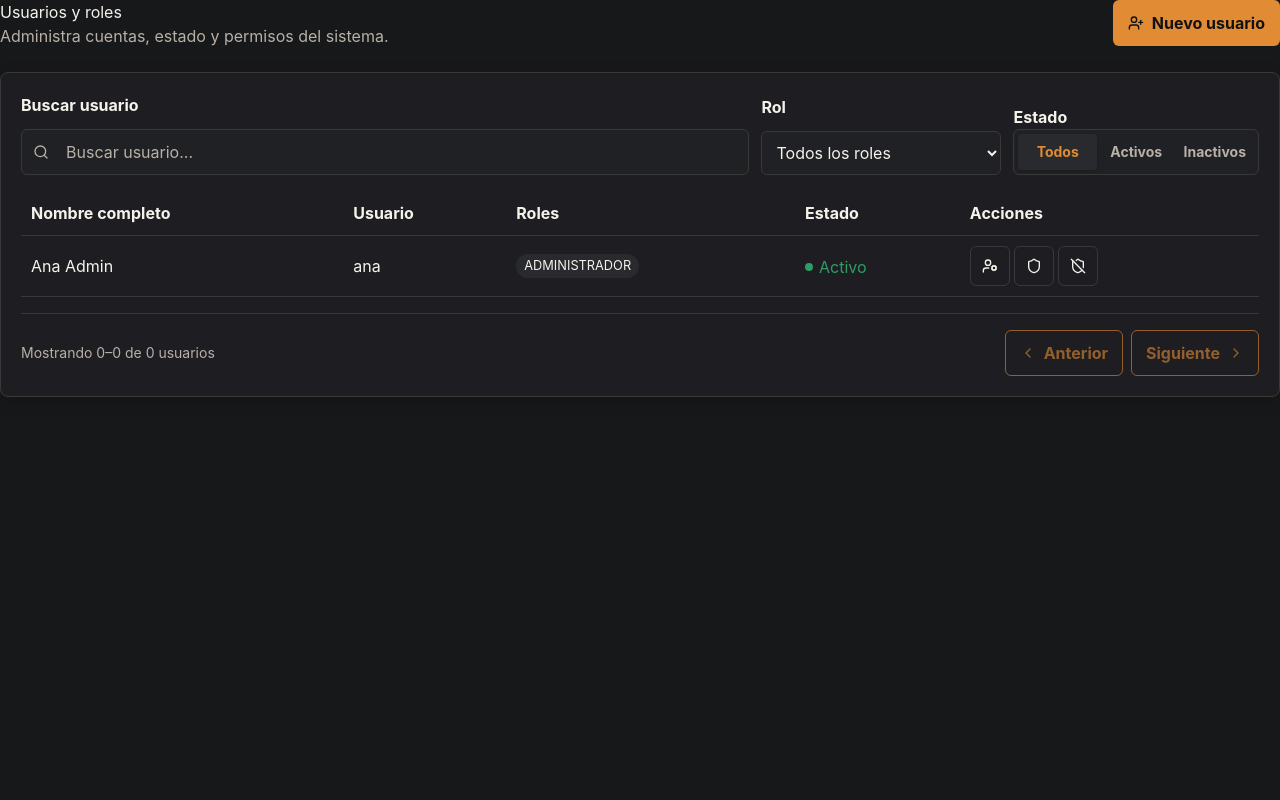
Test: UsersPage › prepopulates edit and confirms lifecycle actions before mutation
Click the button named "Editar usuario" at (990, 266), box [970,246,1010,286]
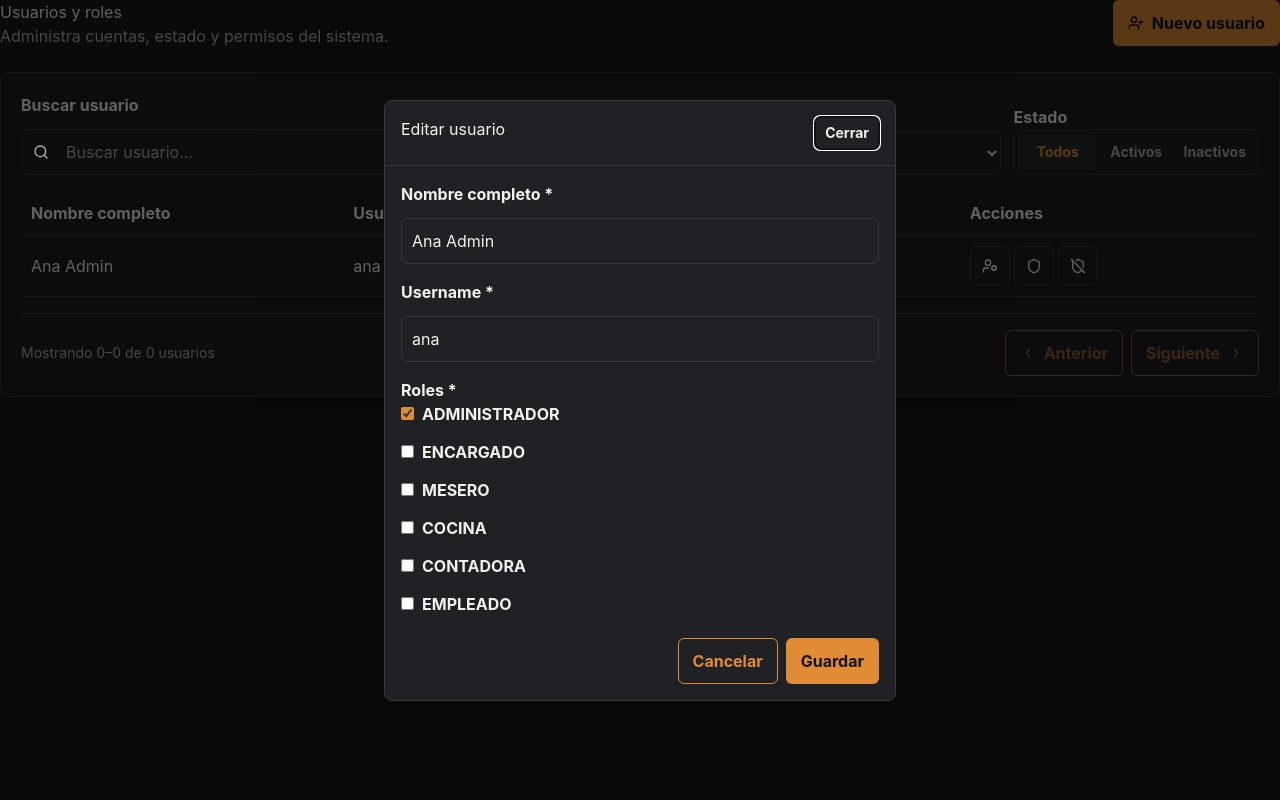
Expected: the field showing "Ana Admin" is shown, [401,218,879,264]
Click the button "Cerrar" at (847, 132), box [815,116,879,148]
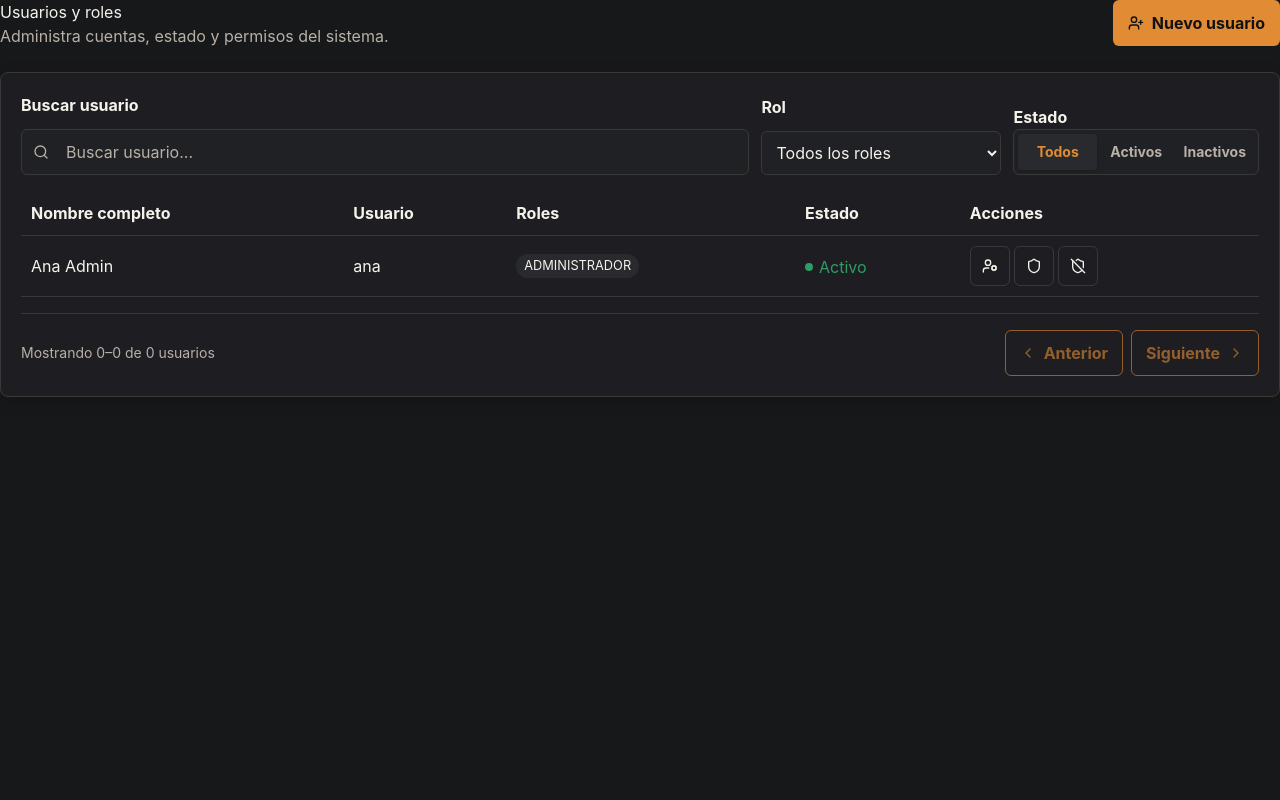
Click the button named "Desactivar usuario" at (1078, 266), box [1058,246,1098,286]
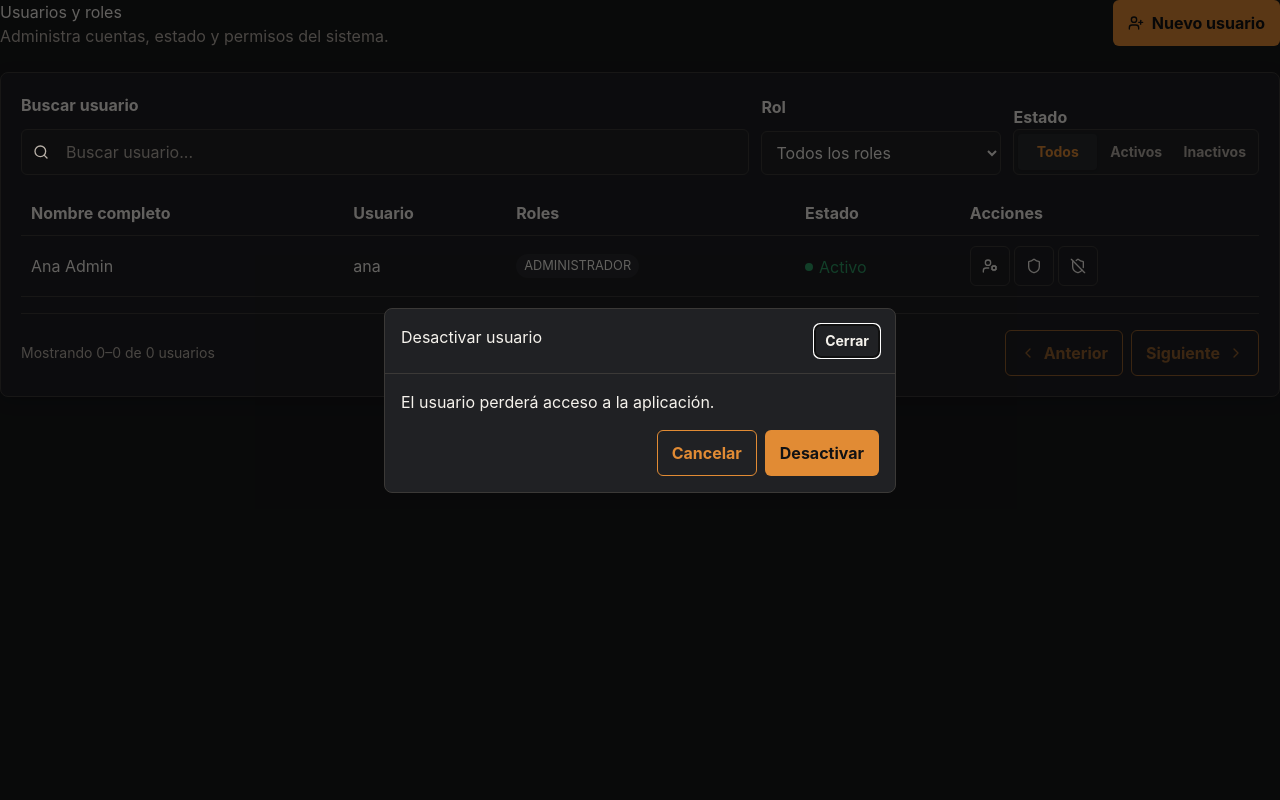
Expected: the dialog "Desactivar usuario" is shown, [384,308,896,492]
Expected: the text "El usuario perderá acceso a la aplicación." is shown, [401,392,714,412]
